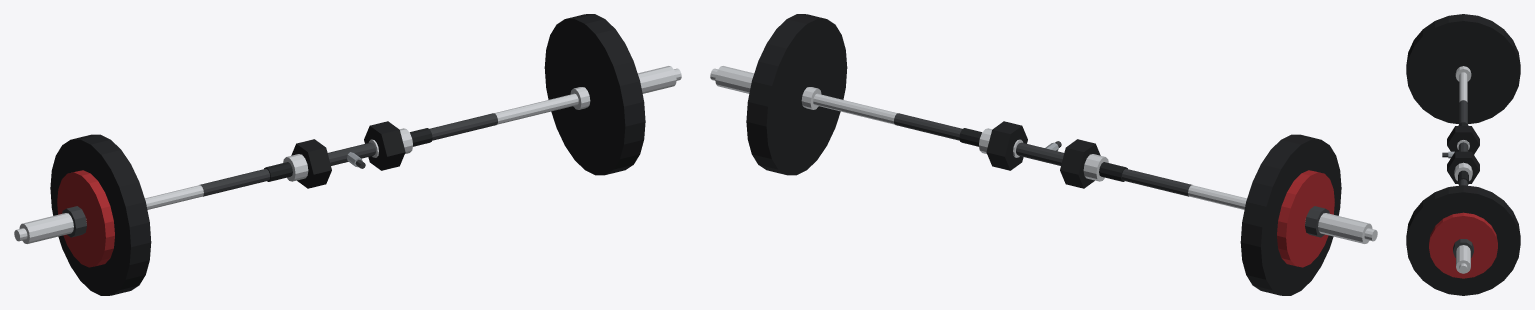
File: gym_hand_props.glb
3 renders of one model, left to right at view 1: azimuth 30°, elevation 25°; view 2: azimuth 150°, elevation 25°; view 3: azimuth 270°, elevation 25°, orthographic. The views are drawn at different scales.
Parts seen in each view (by area): view 1: gym_barbell__rubber, gym_barbell__chrome, gym_barbell__red, gym_dumbbell__rubber, gym_barbell__grip, gym_dumbbell__chrome, gym_row_handle__foam, gym_dumbbell__grip; view 2: gym_barbell__rubber, gym_barbell__chrome, gym_barbell__red, gym_dumbbell__rubber, gym_barbell__grip, gym_dumbbell__chrome, gym_row_handle__foam, gym_dumbbell__grip; view 3: gym_barbell__rubber, gym_barbell__red, gym_dumbbell__rubber, gym_barbell__chrome, gym_barbell__grip, gym_dumbbell__chrome, gym_row_handle__foam, gym_dumbbell__grip.
Part boxes in pixels (x1=…): gym_barbell__rubber: x1=50, y1=14, x2=645, y2=295; gym_barbell__chrome: x1=14, y1=66, x2=681, y2=243; gym_barbell__red: x1=57, y1=170, x2=114, y2=267; gym_dumbbell__rubber: x1=291, y1=121, x2=405, y2=188; gym_barbell__grip: x1=62, y1=113, x2=497, y2=237; gym_dumbbell__chrome: x1=283, y1=128, x2=412, y2=181; gym_row_handle__foam: x1=264, y1=128, x2=432, y2=181; gym_dumbbell__grip: x1=327, y1=142, x2=375, y2=165; gym_barbell__rubber: x1=746, y1=14, x2=1341, y2=295; gym_barbell__chrome: x1=710, y1=66, x2=1377, y2=243; gym_barbell__red: x1=1277, y1=170, x2=1334, y2=267; gym_dumbbell__rubber: x1=986, y1=121, x2=1100, y2=188; gym_barbell__grip: x1=894, y1=113, x2=1329, y2=237; gym_dumbbell__chrome: x1=979, y1=128, x2=1108, y2=181; gym_row_handle__foam: x1=959, y1=128, x2=1127, y2=181; gym_dumbbell__grip: x1=1016, y1=142, x2=1064, y2=165; gym_barbell__rubber: x1=1406, y1=14, x2=1520, y2=295; gym_barbell__red: x1=1429, y1=212, x2=1497, y2=278; gym_dumbbell__rubber: x1=1447, y1=126, x2=1479, y2=183; gym_barbell__chrome: x1=1455, y1=66, x2=1471, y2=273; gym_barbell__grip: x1=1453, y1=100, x2=1473, y2=257; gym_dumbbell__chrome: x1=1454, y1=140, x2=1472, y2=180; gym_row_handle__foam: x1=1458, y1=122, x2=1468, y2=184; gym_dumbbell__grip: x1=1458, y1=142, x2=1468, y2=151.
Size of the model in its own units: 1.8 by 0.38 by 0.38.
